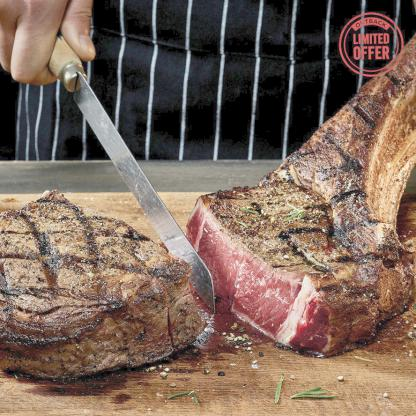Carne: (0, 195, 205, 377), (192, 190, 344, 359), (280, 132, 414, 304), (236, 180, 391, 327)
